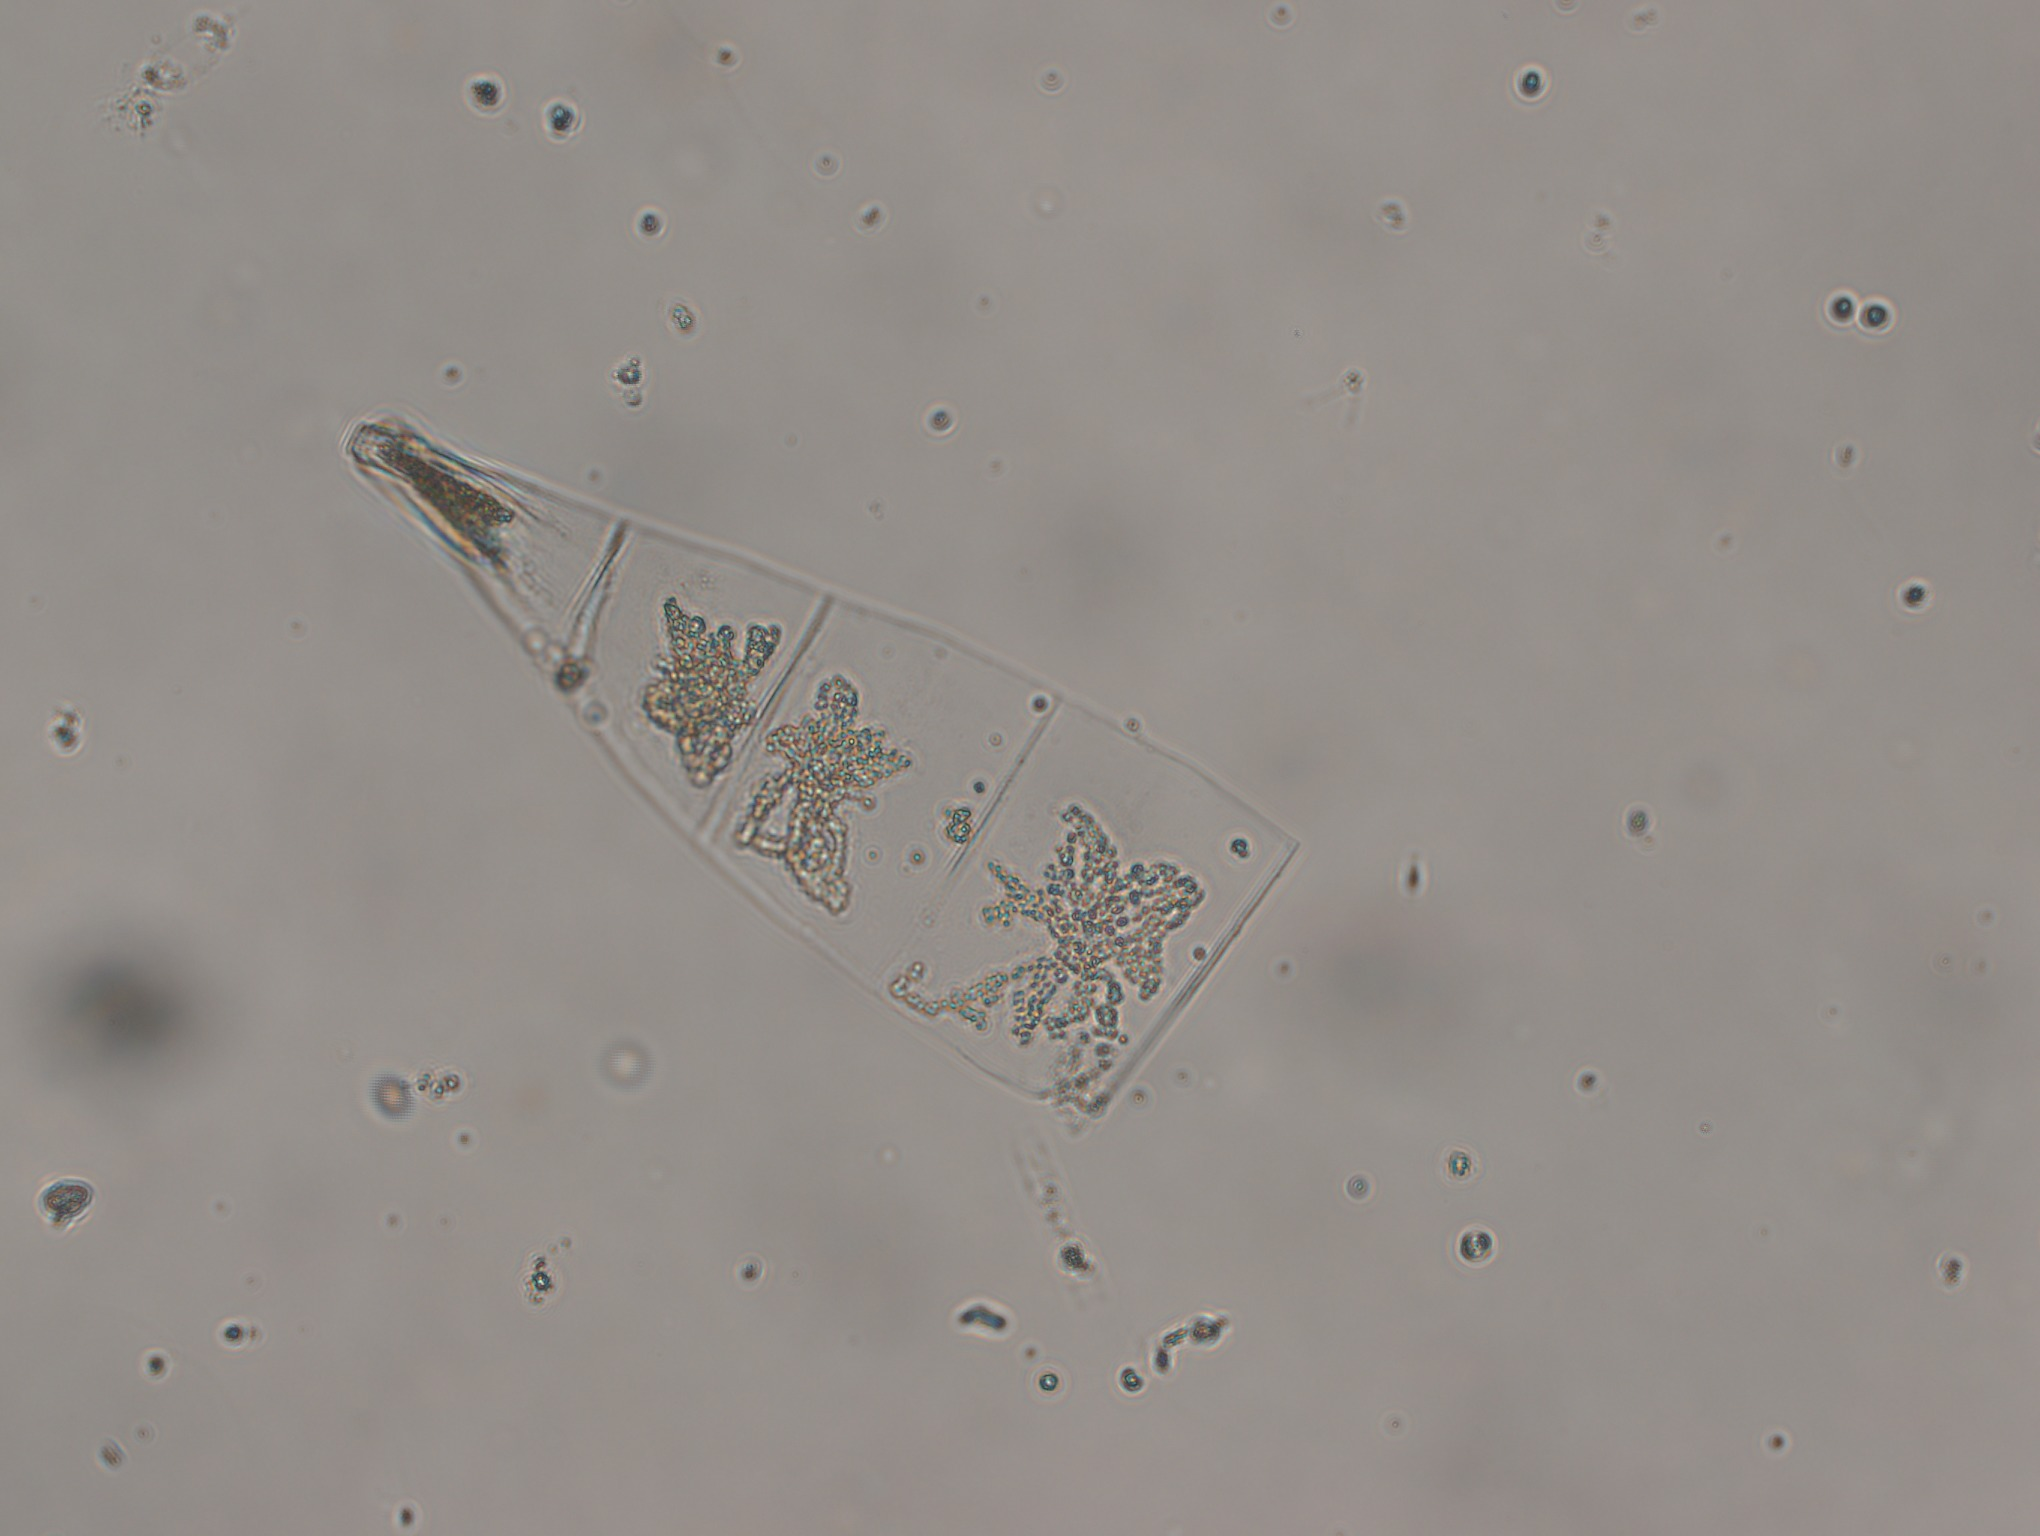helicotheca: (319, 403, 1311, 1157)
